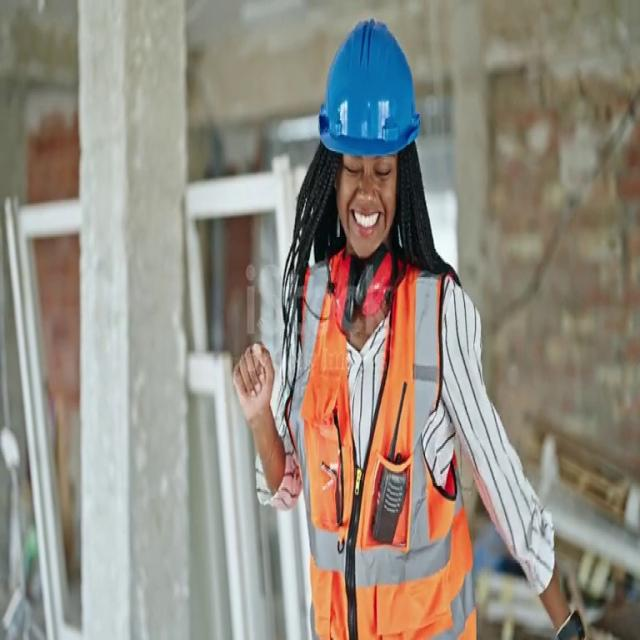capacete: (306, 7, 430, 170)
